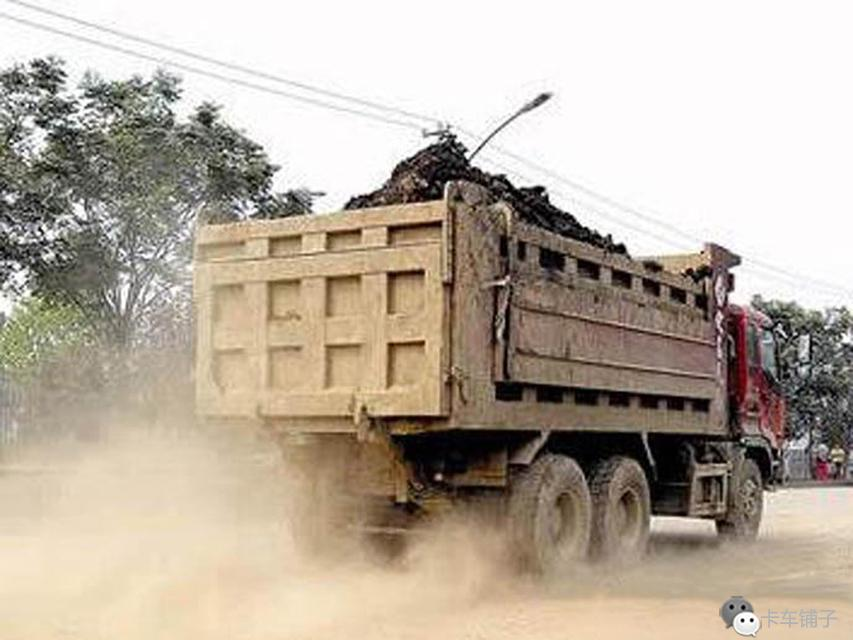truck: (172, 165, 789, 587)
